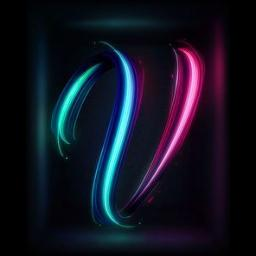v: (44, 22, 208, 242)
